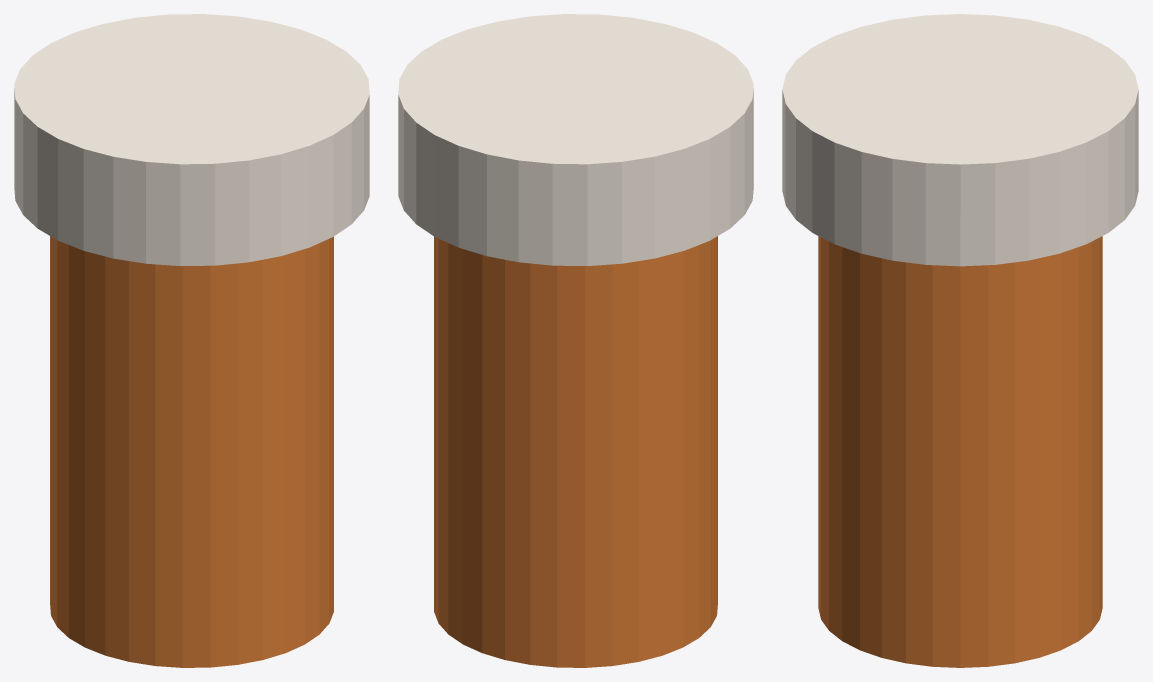
File: meds bottle.fbx
3 views of the same model, side by side, from view 1: azimuth 30°, elevation 25°; view 2: azimuth 150°, elevation 25°; view 3: azimuth 270°, elevation 25° (orthographic).
Parts seen in each view (by area): view 1: Bottle, Cap; view 2: Bottle, Cap; view 3: Bottle, Cap.
Part boxes in pixels (x1,y1,x2,y2): Bottle: (50, 236, 333, 667); Cap: (14, 14, 369, 265); Bottle: (434, 236, 717, 667); Cap: (398, 14, 753, 265); Bottle: (818, 236, 1102, 667); Cap: (782, 14, 1138, 266).
Size of the model in its own units: 106 by 170 by 106.
